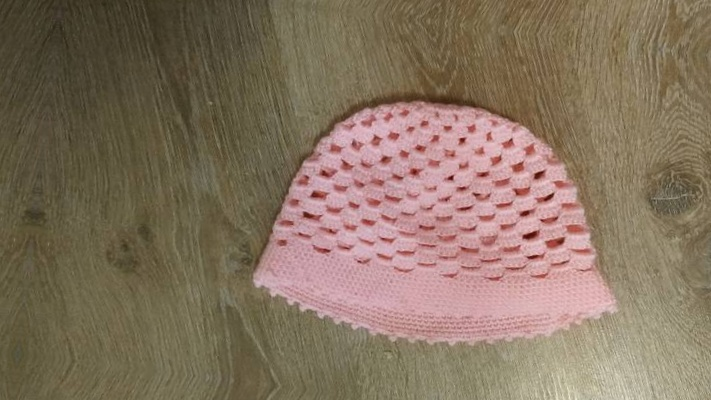Hat: (224, 37, 654, 379), (269, 0, 698, 13)
